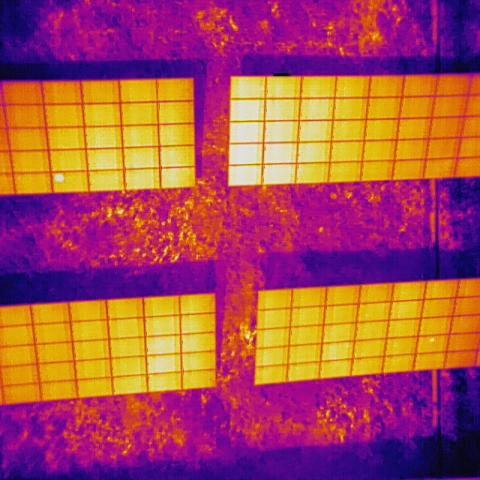fault: (52, 171, 66, 184), (429, 332, 436, 348)
